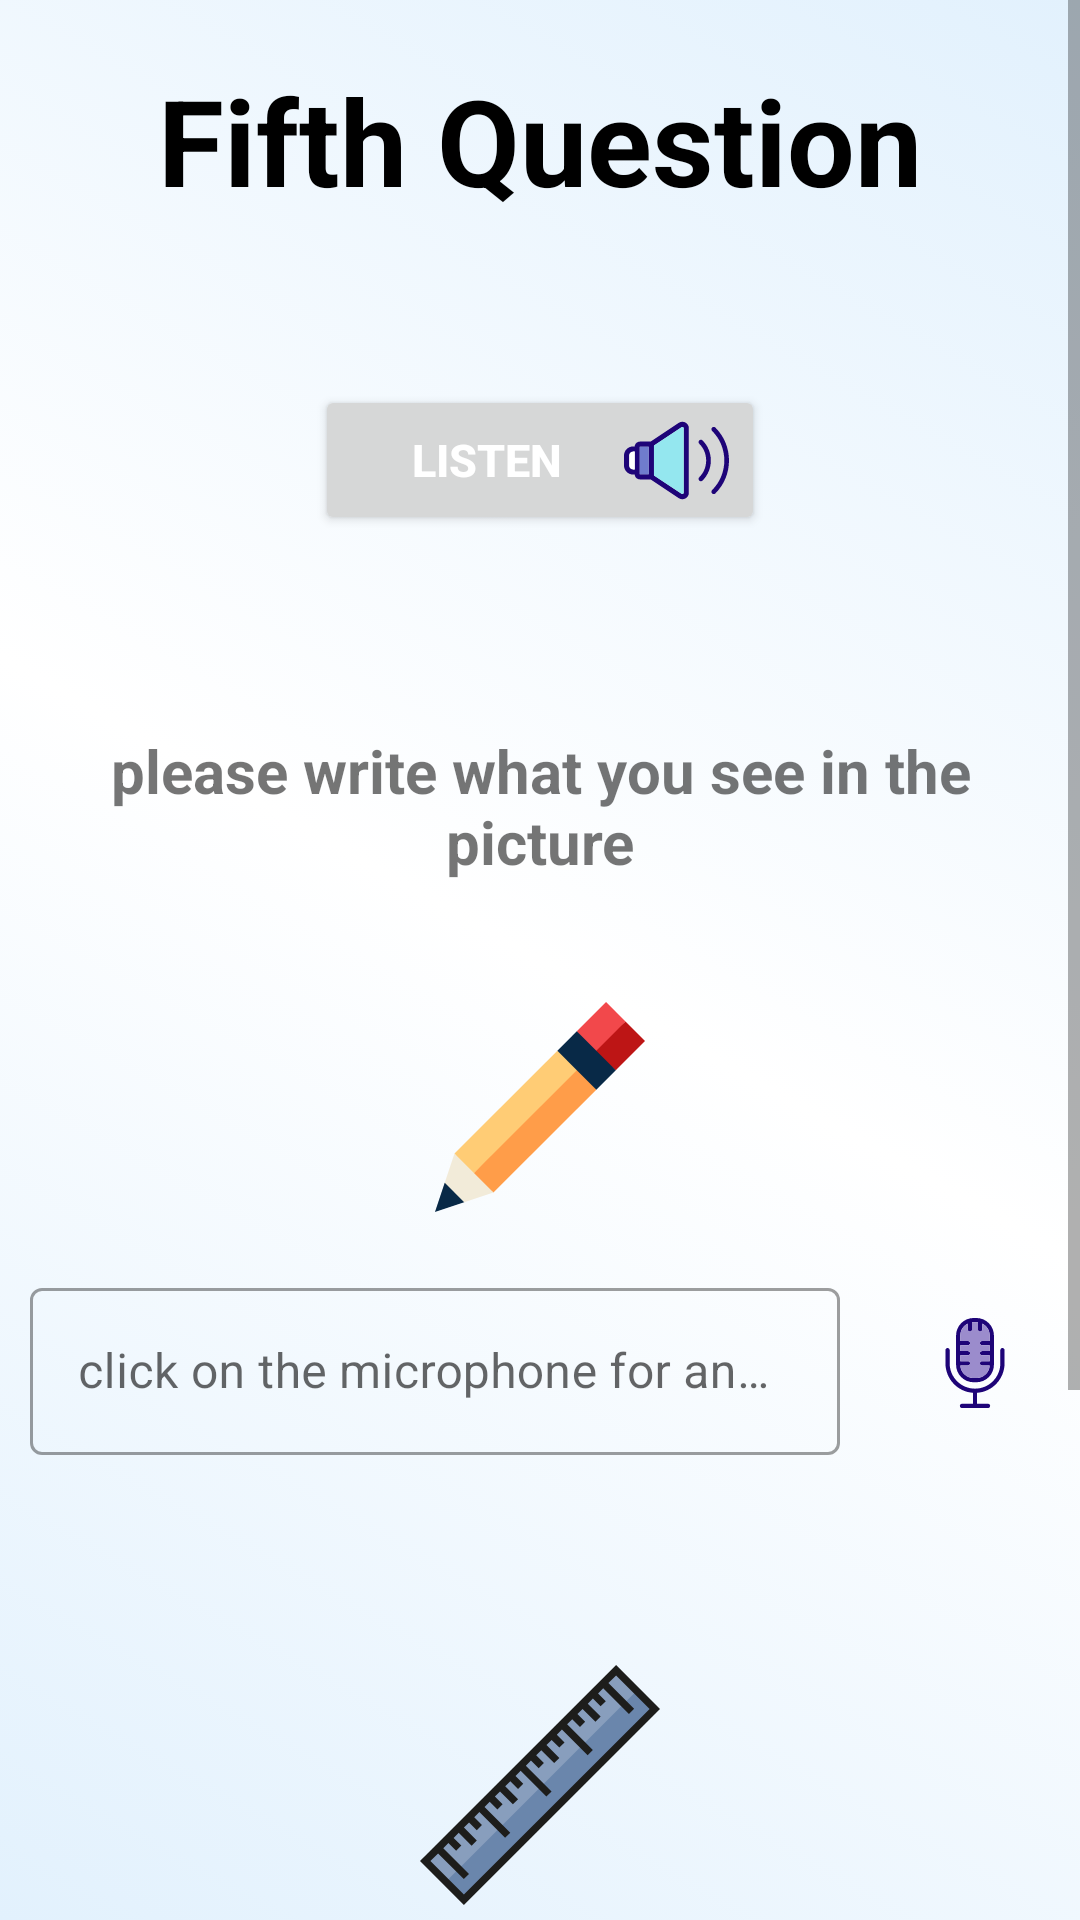

Locate icon controls on the screen. Image size 1080w x 1920h, boxes as (x1, y1, x2, y2).
pencil: (435, 1002, 645, 1212)
ruler: (420, 1665, 660, 1905)
